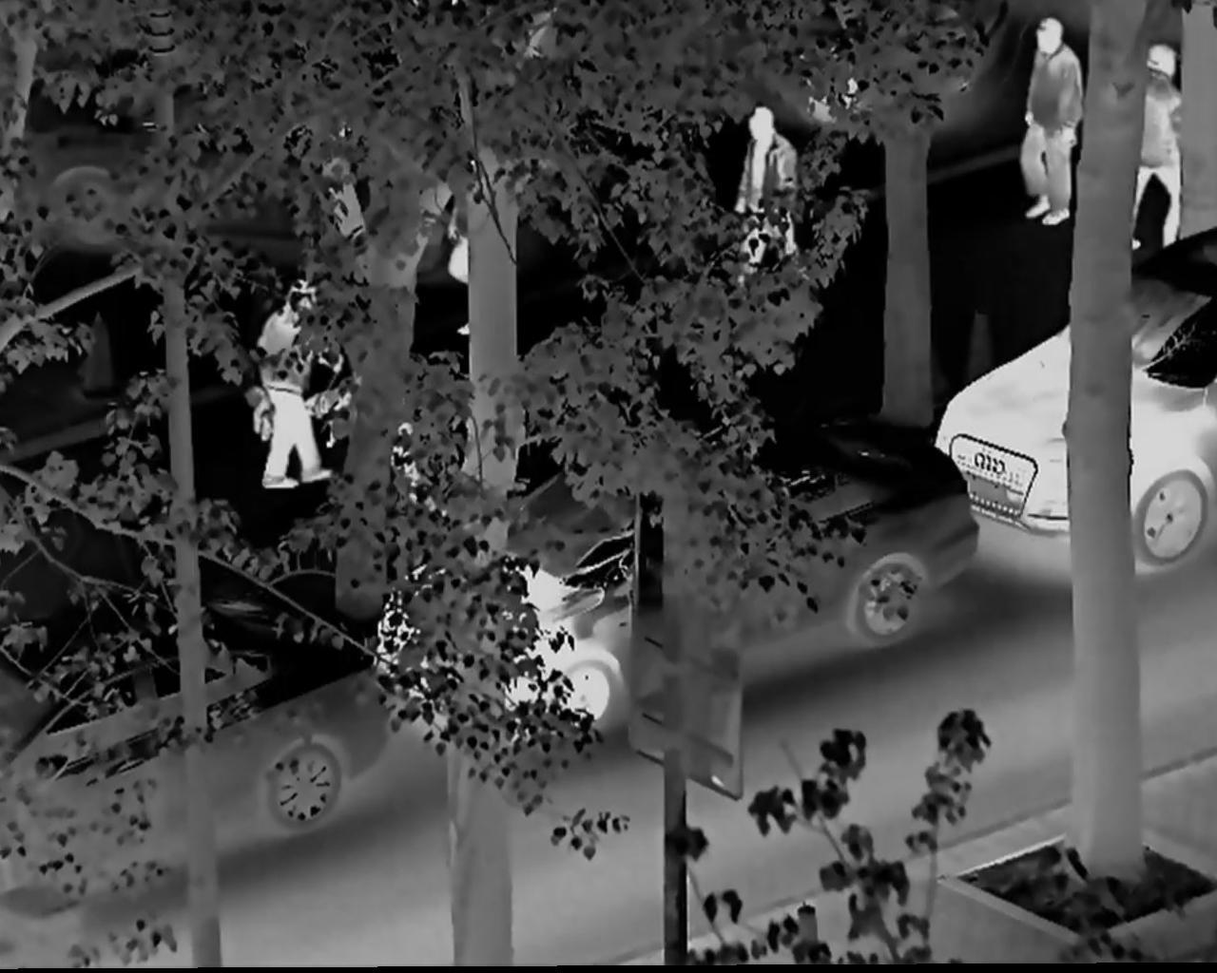person: (244, 263, 337, 503), (1017, 10, 1083, 236), (1135, 31, 1192, 254), (738, 93, 802, 288)
